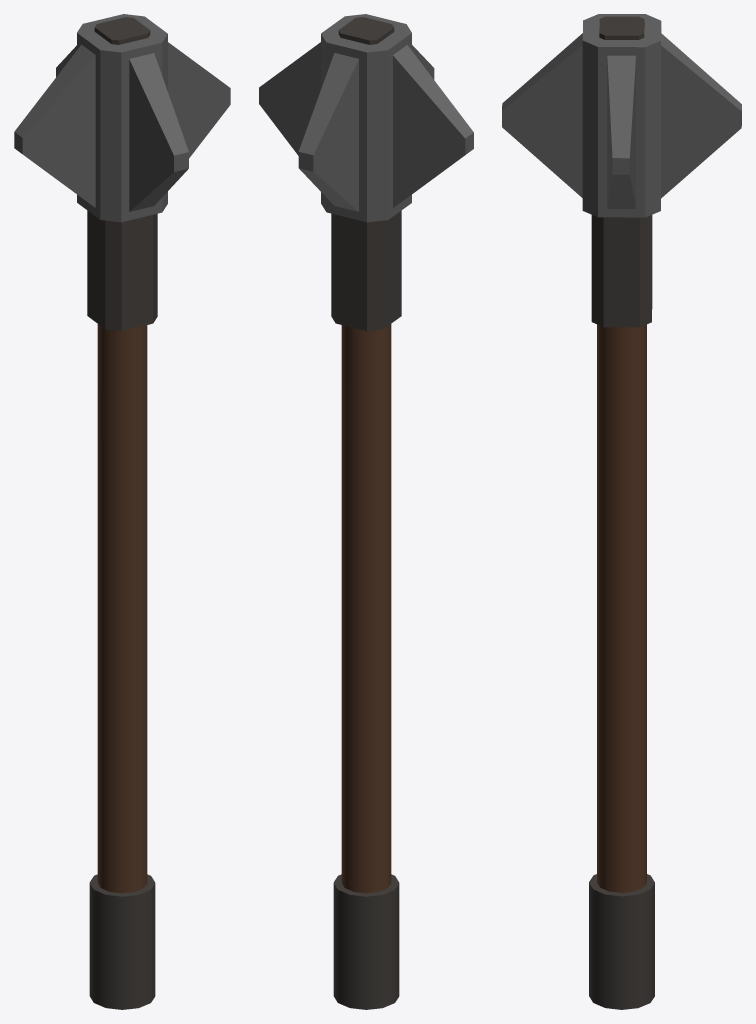
The model's file is Mace.fbx.
3 renders of one model, left to right at view 1: azimuth 30°, elevation 25°; view 2: azimuth 150°, elevation 25°; view 3: azimuth 270°, elevation 25°, orthographic.
Parts seen in each view (by area): view 1: Mace_Baked; view 2: Mace_Baked; view 3: Mace_Baked.
Boxes of the visible parts, box(x1,y1,x2,y2) form: Mace_Baked: box(14, 14, 230, 1009); Mace_Baked: box(259, 14, 473, 1009); Mace_Baked: box(502, 14, 741, 1009).
Bounding box in the file's own units: 19.14 × 85.39 × 19.14.
Materials: 1 (1 with a texture image).
